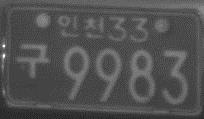3: (161, 48, 188, 105), (108, 16, 127, 41), (130, 17, 148, 43)
8: (128, 49, 155, 103)
9: (63, 45, 90, 101), (95, 47, 122, 102)
구: (14, 43, 50, 78)
인천_O: (58, 14, 104, 38)
